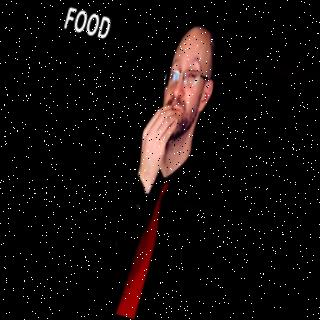Food: (81, 11, 251, 320)
